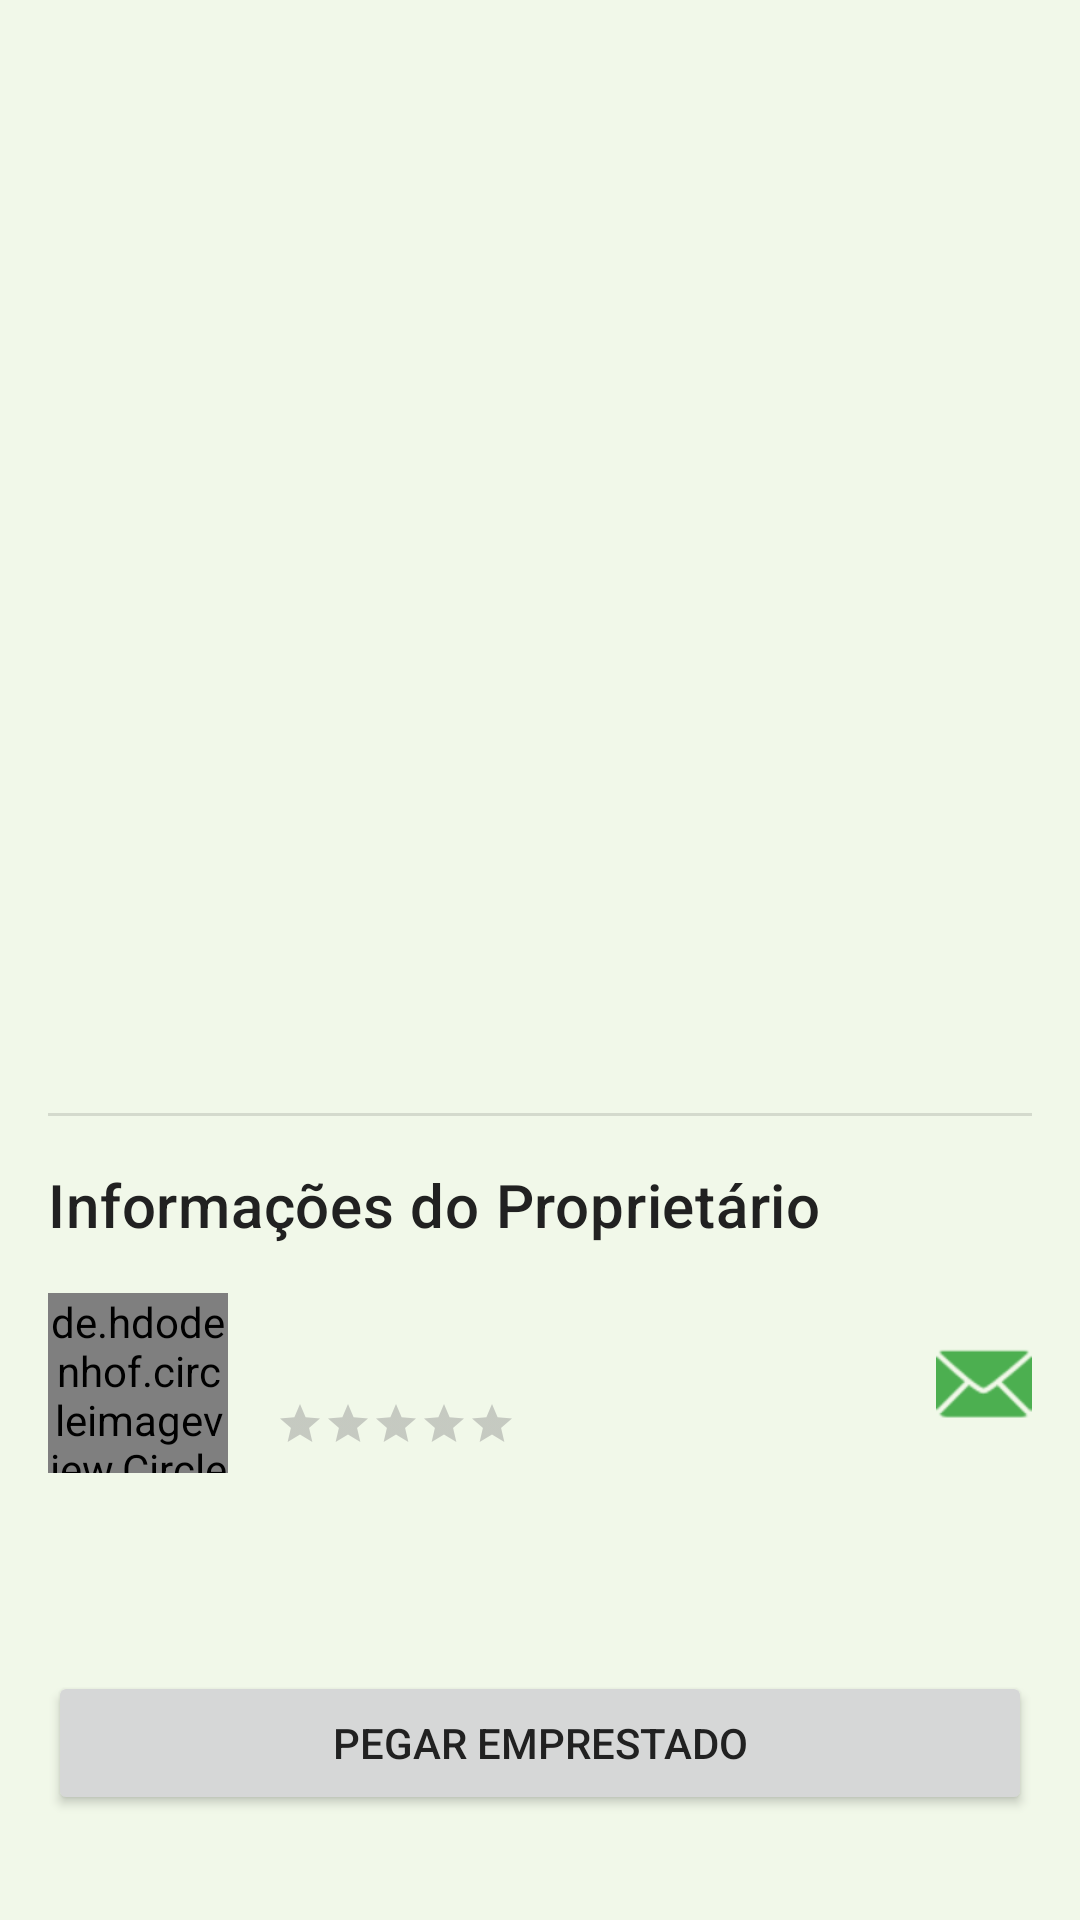

Named icons in this screenshot (1080×1920) and their bounding boxes, (x1, y1, x2, y2):
Chat: (936, 1350, 1032, 1418)
